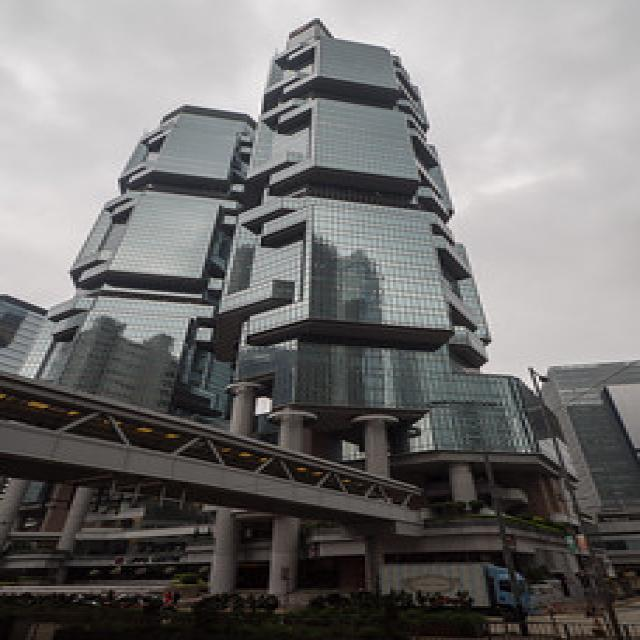building: (33, 17, 590, 633)
